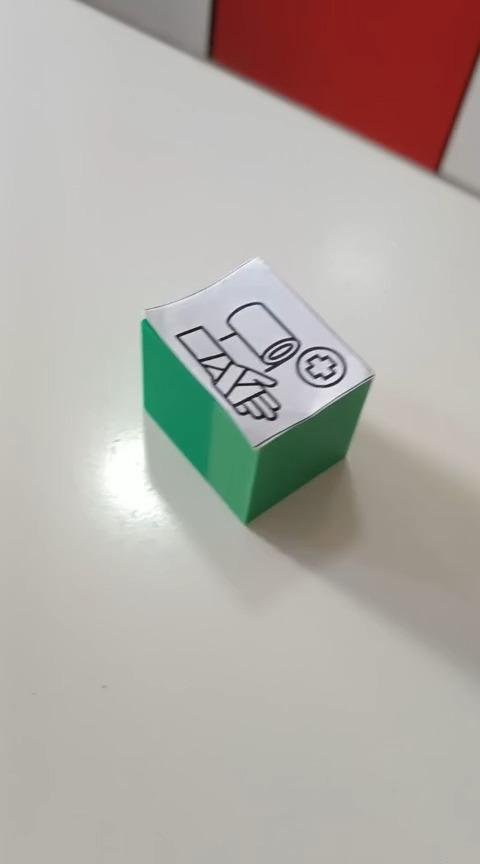Bandages: (139, 254, 375, 525)
